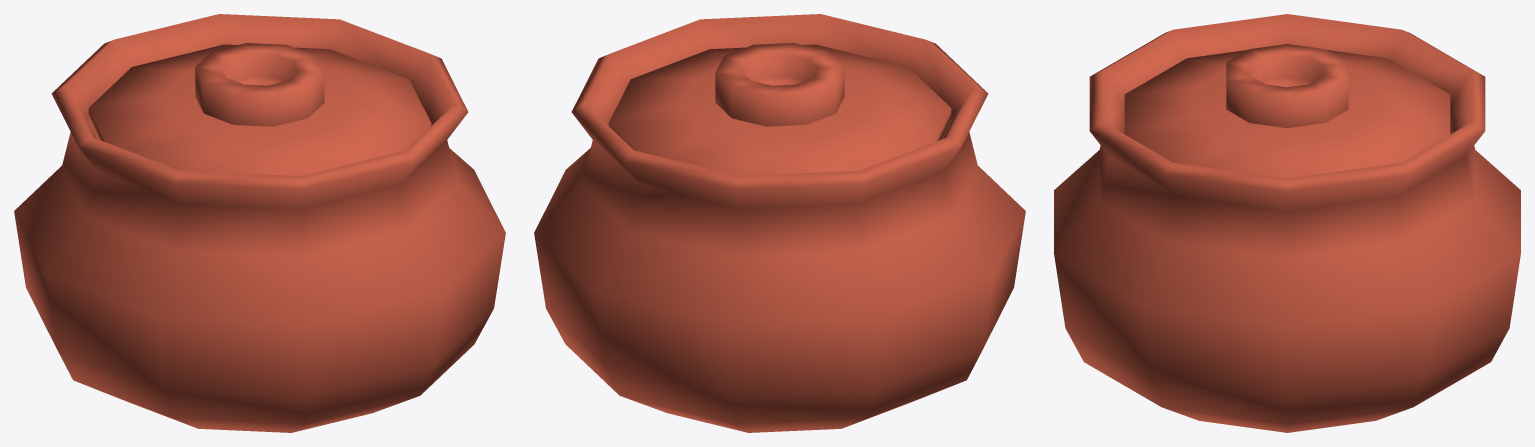
Rendered from Ceramic Pot Large.glb.
3 renders of one model, left to right at view 1: azimuth 30°, elevation 25°; view 2: azimuth 150°, elevation 25°; view 3: azimuth 270°, elevation 25°, orthographic.
Visible parts, largest first — view 1: pan_ceramic_pot_large_Cylinder.050, pan_ceramic_pot_large_lid_Cylinder.053; view 2: pan_ceramic_pot_large_Cylinder.050, pan_ceramic_pot_large_lid_Cylinder.053; view 3: pan_ceramic_pot_large_Cylinder.050, pan_ceramic_pot_large_lid_Cylinder.053.
Boxes of the visible parts, bbox=[...] form: pan_ceramic_pot_large_Cylinder.050: bbox=[14, 14, 505, 432]; pan_ceramic_pot_large_lid_Cylinder.053: bbox=[88, 43, 431, 175]; pan_ceramic_pot_large_Cylinder.050: bbox=[534, 14, 1025, 432]; pan_ceramic_pot_large_lid_Cylinder.053: bbox=[608, 43, 951, 175]; pan_ceramic_pot_large_Cylinder.050: bbox=[1054, 14, 1520, 432]; pan_ceramic_pot_large_lid_Cylinder.053: bbox=[1124, 44, 1450, 178].
Bounding box in the file's own units: 5.34 × 3.58 × 5.07.
1 material, 1 textured.
